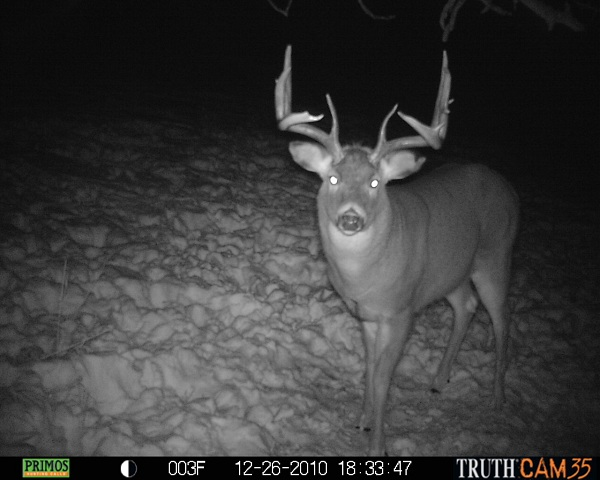deer: (257, 42, 554, 417)
